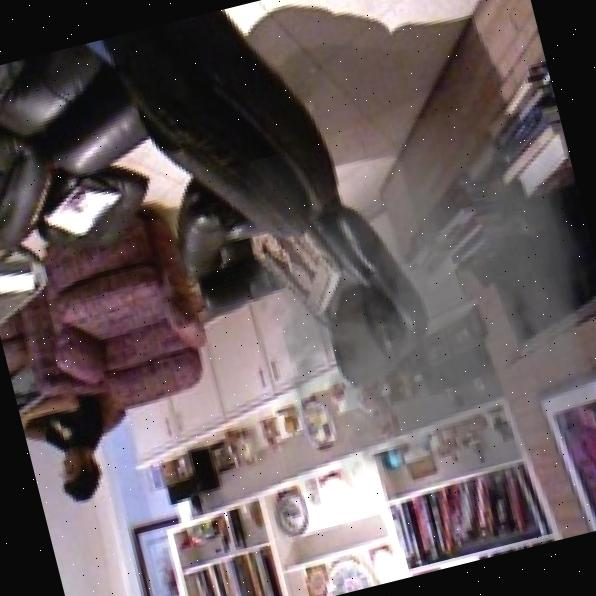smoke: (211, 87, 596, 558)
